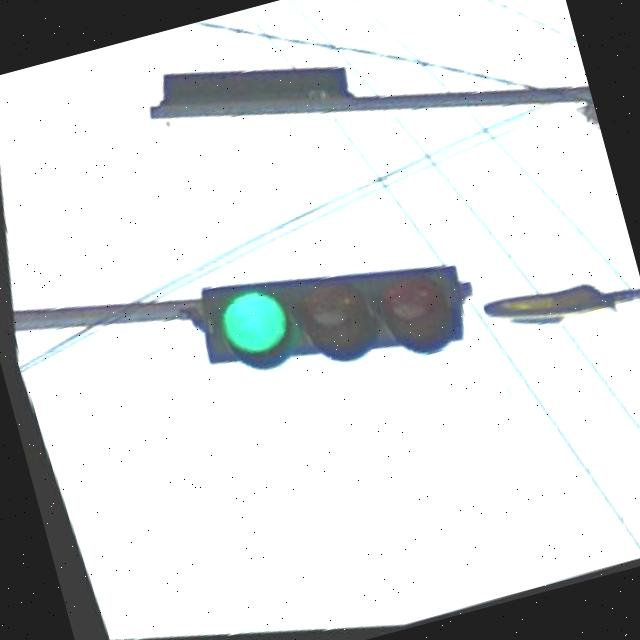green_light: (173, 202, 492, 430)
